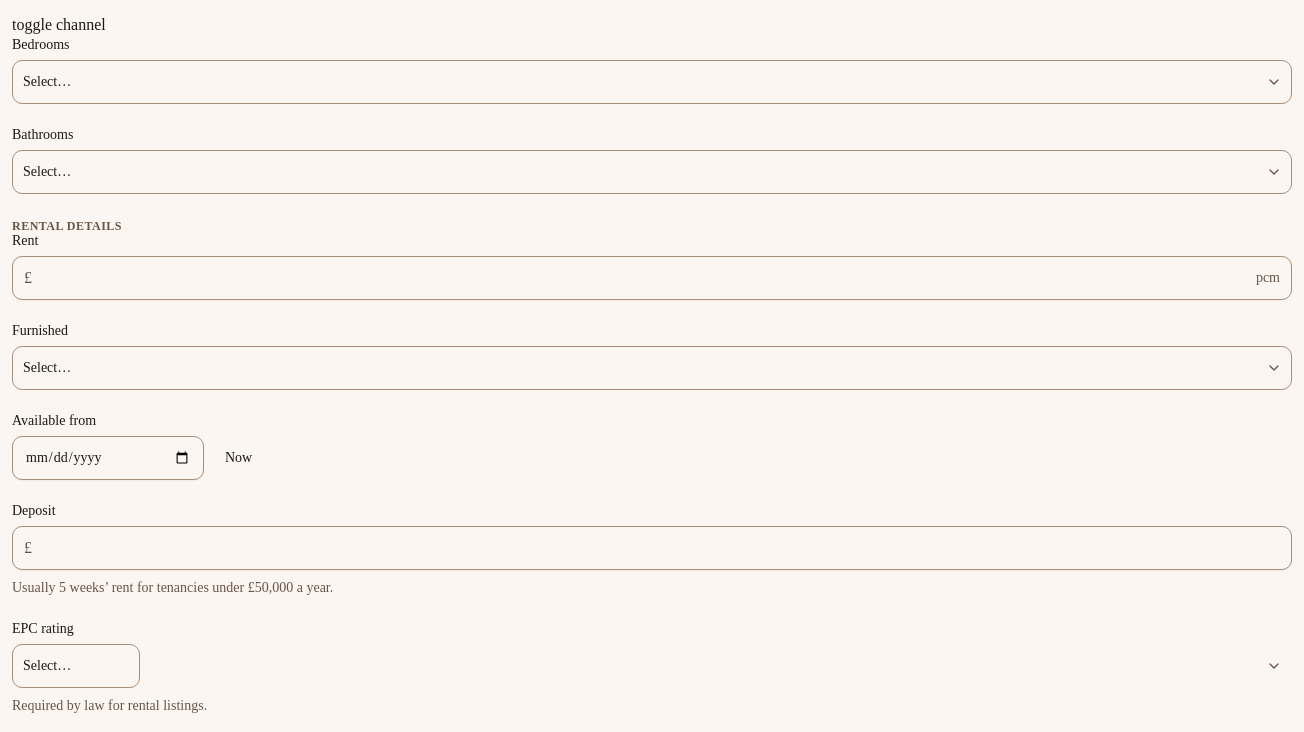
it: StepDetails › rent channel: clicking "Now" sets Available from to today
The width and height of the screenshot is (1304, 732).
Click the button "Now" at (239, 458), box x1=212 y1=436 x2=265 y2=480
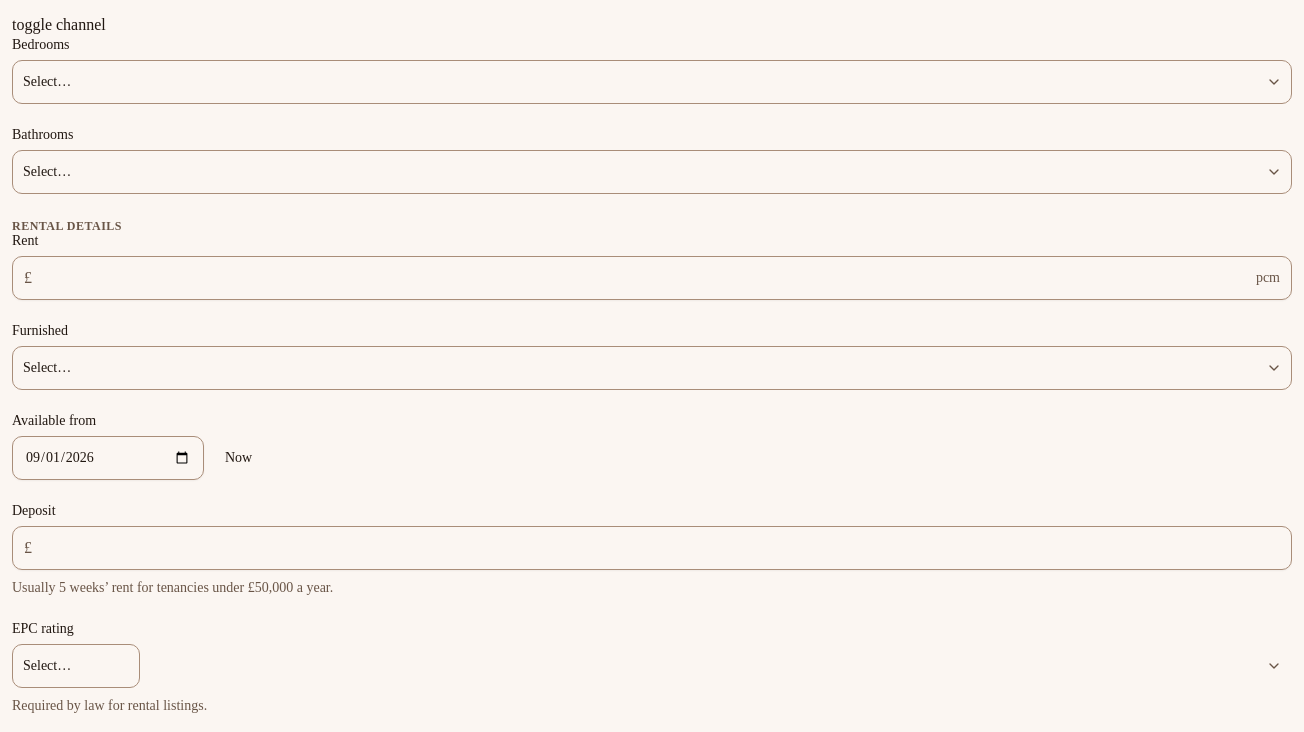
Check: the date field labelled "Available from" holds "2026-09-01", box x1=12 y1=436 x2=204 y2=480
